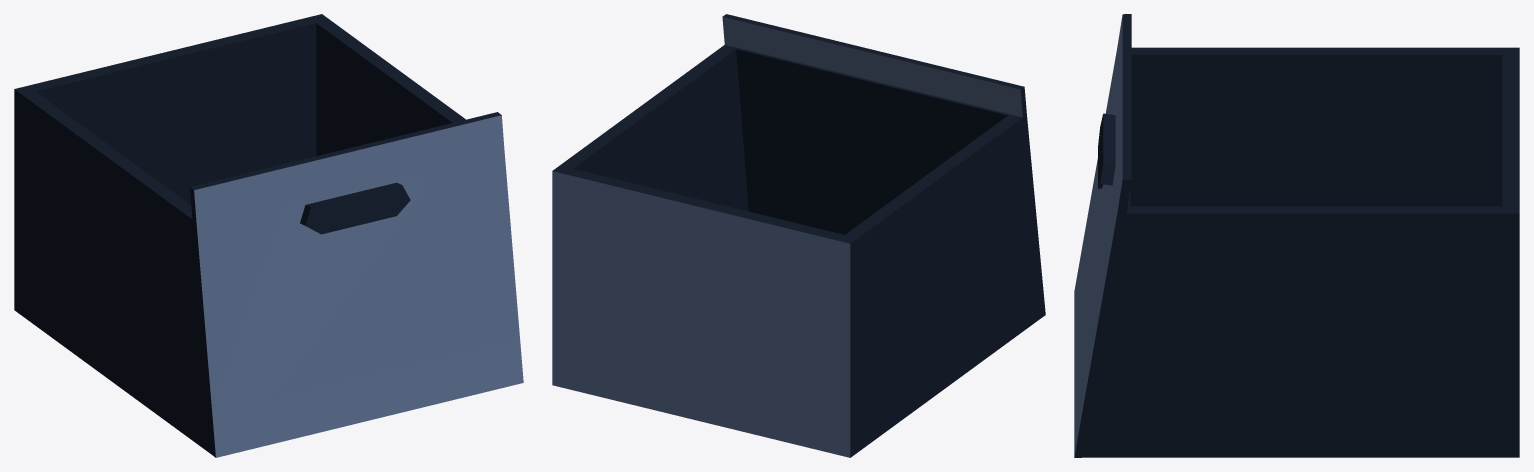
Rendered from ComposterDrawer.fbx.
3 views of the same model, side by side, from view 1: azimuth 30°, elevation 25°; view 2: azimuth 150°, elevation 25°; view 3: azimuth 270°, elevation 25° (orthographic). The views are drawn at different scales.
Parts seen in each view (by area): view 1: ComposterDrawer; view 2: ComposterDrawer; view 3: ComposterDrawer.
Boxes of the visible parts, <box> form: ComposterDrawer: <box>14,14,523,457</box>; ComposterDrawer: <box>552,14,1045,457</box>; ComposterDrawer: <box>1074,14,1519,457</box>.
Bounding box in the file's own units: 1.11 × 0.8669 × 1.26.
